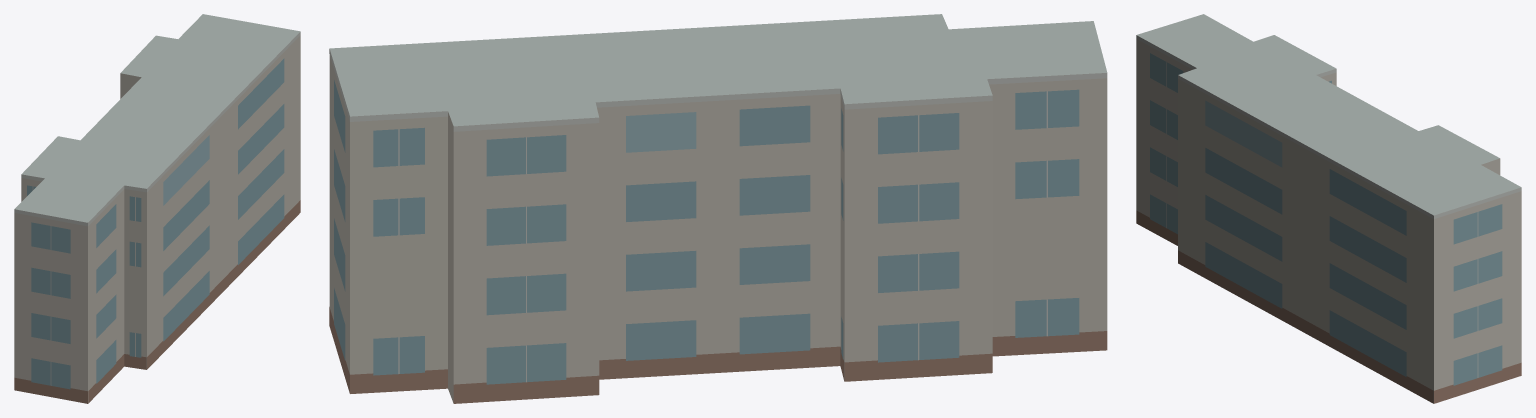
Rendered from survey-upis-32531819.glb.
The picture shows the model from 3 angles, left to right: view 1: azimuth 30°, elevation 25°; view 2: azimuth 150°, elevation 25°; view 3: azimuth 270°, elevation 25°; orthographic projection. The views are drawn at different scales.
Parts seen in each view (by area): view 1: survey-upis-32531819.tmp; view 2: survey-upis-32531819.tmp; view 3: survey-upis-32531819.tmp.
Part boxes in pixels (left/top/right/bottom): survey-upis-32531819.tmp: left=14, top=14, right=300, bottom=403; survey-upis-32531819.tmp: left=329, top=14, right=1107, bottom=403; survey-upis-32531819.tmp: left=1136, top=14, right=1521, bottom=403.
Bounding box in the file's own units: 28.46 × 12.4 × 23.
